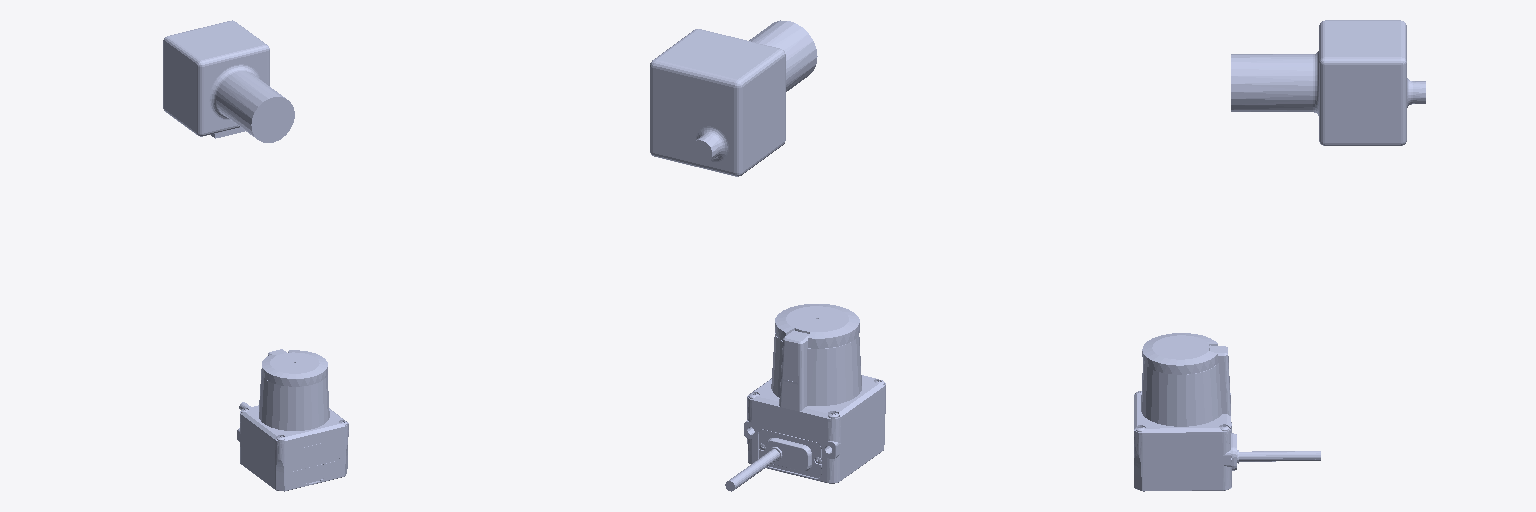
The robot description file, URDF, robot "medibot":
<?xml version="1.0" encoding="utf-8"?>
<!-- This URDF was automatically created by SolidWorks to URDF Exporter! Originally created by [author] ([email redacted]) 
     Commit Version: 1.6.0-1-g15f4949  Build Version: 1.6.7594.29634
     For more information, please see http://wiki.ros.org/sw_urdf_exporter -->
<robot
  name="medibot">
  <link
    name="base_link">
    <inertial>
      <origin
        xyz="-0.007005 -0.057324 0.5622"
        rpy="0 0 0" />
      <mass
        value="16.587" />
      <inertia
        ixx="0.33575"
        ixy="-0.00045583"
        ixz="-0.0016631"
        iyy="0.47721"
        iyz="-0.0005298"
        izz="0.26398" />
    </inertial>
    <visual>
      <origin
        xyz="0 0 0"
        rpy="0 0 0" />
      <geometry>
        <mesh
          filename="package://medibot/meshes/base_link.STL" />
      </geometry>
      <material
        name="">
        <color
          rgba="0.79216 0.81961 0.93333 1" />
      </material>
    </visual>
    <collision>
      <origin
        xyz="0 0 0"
        rpy="0 0 0" />
      <geometry>
        <mesh
          filename="package://medibot/meshes/base_link.STL" />
      </geometry>
    </collision>
  </link>
  <link
    name="right_wheel">
    <inertial>
      <origin
        xyz="2.7756E-17 0 -0.1"
        rpy="0 0 0" />
      <mass
        value="18.237" />
      <inertia
        ixx="0.20771"
        ixy="8.4374E-34"
        ixz="-6.6177E-18"
        iyy="0.20771"
        iyz="3.0093E-34"
        izz="0.29384" />
    </inertial>
    <visual>
      <origin
        xyz="0 0 0"
        rpy="0 0 0" />
      <geometry>
        <mesh
          filename="package://medibot/meshes/right_wheel.STL" />
      </geometry>
      <material
        name="">
        <color
          rgba="0.79216 0.81961 0.93333 1" />
      </material>
    </visual>
    <collision>
      <origin
        xyz="0 0 0"
        rpy="0 0 0" />
      <geometry>
        <mesh
          filename="package://medibot/meshes/right_wheel.STL" />
      </geometry>
    </collision>
  </link>
  <joint
    name="right_wheel_joint"
    type="continuous">
    <origin
      xyz="-0.189 0.18156 -0.069152"
      rpy="-1.5708 0 -1.5708" />
    <parent
      link="base_link" />
    <child
      link="right_wheel" />
    <axis
      xyz="0 0 1" />
  </joint>
  <link
    name="left_wheel">
    <inertial>
      <origin
        xyz="-2.7756E-17 0 0.1"
        rpy="0 0 0" />
      <mass
        value="18.237" />
      <inertia
        ixx="0.20771"
        ixy="-3.3177E-35"
        ixz="-6.9791E-18"
        iyy="0.20771"
        iyz="-6.8474E-34"
        izz="0.29384" />
    </inertial>
    <visual>
      <origin
        xyz="0 0 0"
        rpy="0 0 0" />
      <geometry>
        <mesh
          filename="package://medibot/meshes/left_wheel.STL" />
      </geometry>
      <material
        name="">
        <color
          rgba="0.79216 0.81961 0.93333 1" />
      </material>
    </visual>
    <collision>
      <origin
        xyz="0 0 0"
        rpy="0 0 0" />
      <geometry>
        <mesh
          filename="package://medibot/meshes/left_wheel.STL" />
      </geometry>
    </collision>
  </link>
  <joint
    name="left_wheel_joint"
    type="continuous">
    <origin
      xyz="0.189 0.17969 -0.064239"
      rpy="1.5708 0 1.5708" />
    <parent
      link="base_link" />
    <child
      link="left_wheel" />
    <axis
      xyz="0 0 1" />
  </joint>
  <link
    name="hokuyo">
    <inertial>
      <origin
        xyz="4.1383E-05 0.029531 -0.00078094"
        rpy="0 0 0" />
      <mass
        value="0.13468" />
      <inertia
        ixx="7.602E-05"
        ixy="1.0575E-07"
        ixz="3.0743E-07"
        iyy="4.8065E-05"
        iyz="-6.6024E-07"
        izz="7.233E-05" />
    </inertial>
    <visual>
      <origin
        xyz="0 0 0"
        rpy="0 0 0" />
      <geometry>
        <mesh
          filename="package://medibot/meshes/hokuyo.STL" />
      </geometry>
      <material
        name="">
        <color
          rgba="0.79216 0.81961 0.93333 1" />
      </material>
    </visual>
    <collision>
      <origin
        xyz="0 0 0"
        rpy="0 0 0" />
      <geometry>
        <mesh
          filename="package://medibot/meshes/hokuyo.STL" />
      </geometry>
    </collision>
  </link>
  <joint
    name="hokuyo_joint"
    type="fixed">
    <origin
      xyz="0 -0.44979 -0.16362"
      rpy="1.5816 0 0" />
    <parent
      link="base_link" />
    <child
      link="hokuyo" />
    <axis
      xyz="0 0 0" />
  </joint>
  <link
    name="camera">
    <inertial>
      <origin
        xyz="0.0096149 -0.024482 -8.2525E-05"
        rpy="0 0 0" />
      <mass
        value="0.14695" />
      <inertia
        ixx="5.1603E-05"
        ixy="7.8246E-07"
        ixz="-4.4646E-07"
        iyy="0.00010094"
        iyz="1.1489E-07"
        izz="0.00010256" />
    </inertial>
    <visual>
      <origin
        xyz="0 0 0"
        rpy="0 0 0" />
      <geometry>
        <mesh
          filename="package://medibot/meshes/camera.STL" />
      </geometry>
      <material
        name="">
        <color
          rgba="0.79216 0.81961 0.93333 1" />
      </material>
    </visual>
    <collision>
      <origin
        xyz="0 0 0"
        rpy="0 0 0" />
      <geometry>
        <mesh
          filename="package://medibot/meshes/camera.STL" />
      </geometry>
    </collision>
  </link>
  <joint
    name="camera_joint"
    type="fixed">
    <origin
      xyz="0 -0.3575 0.031"
      rpy="-1.5708 0 -1.5708" />
    <parent
      link="base_link" />
    <child
      link="camera" />
    <axis
      xyz="0 0 0" />
  </joint>
</robot>

--- Facts derived from the render (not from the file) ---
The picture shows the robot from 3 angles, left to right: view 1: azimuth 30°, elevation 25°; view 2: azimuth 150°, elevation 25°; view 3: azimuth 270°, elevation 25°; orthographic projection.
Model medibot with 5 links and 4 joints (2 continuous, 2 fixed), rooted at base_link, posed all joints at 0.
Links seen in each view (by area): view 1: camera, hokuyo; view 2: hokuyo, camera; view 3: camera, hokuyo.
Link boxes in pixels (box(x1,y1,x2,y2)): camera: box(163, 20, 294, 142); hokuyo: box(237, 349, 348, 491); hokuyo: box(725, 304, 885, 491); camera: box(650, 20, 817, 176); camera: box(1231, 20, 1425, 145); hokuyo: box(1134, 333, 1320, 491).
Size in the robot's own frame: 0.05 by 0.1502 by 0.2449 metres.
Meshes: 5 distinct files referenced, 2 mesh visuals loaded (2 binary STL); not drawn: 3 (reference not matched to a file when rendering).